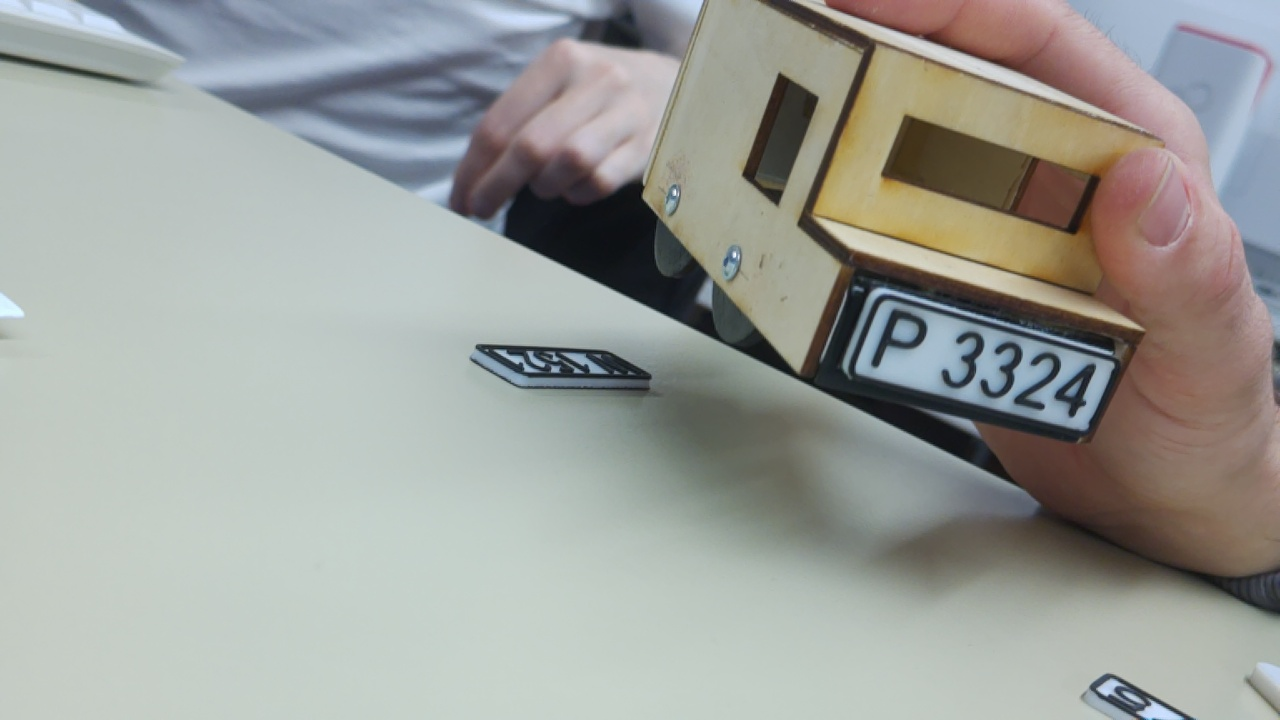license_plate: (828, 280, 1125, 445)
